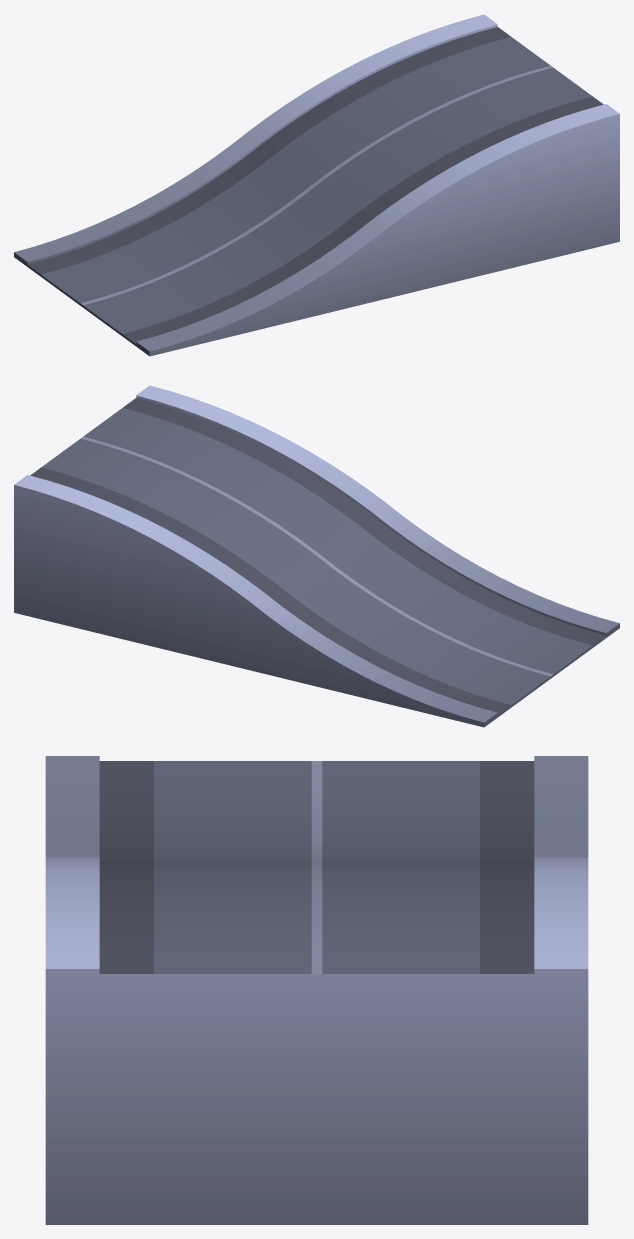
File: road-slant-curve.glb
3 renders of one model, top to bottom at view 1: azimuth 30°, elevation 25°; view 2: azimuth 150°, elevation 25°; view 3: azimuth 270°, elevation 25°, orthographic. The views are drawn at different scales.
Parts seen in each view (by area): view 1: road-slant-curve; view 2: road-slant-curve; view 3: road-slant-curve.
Part boxes in pixels (x1=…): road-slant-curve: x1=14, y1=14, x2=619, y2=356; road-slant-curve: x1=14, y1=385, x2=619, y2=727; road-slant-curve: x1=45, y1=756, x2=588, y2=1224.
Bounding box in the file's own units: 2 × 0.52 × 1.
Materials: 1 (1 with a texture image).
